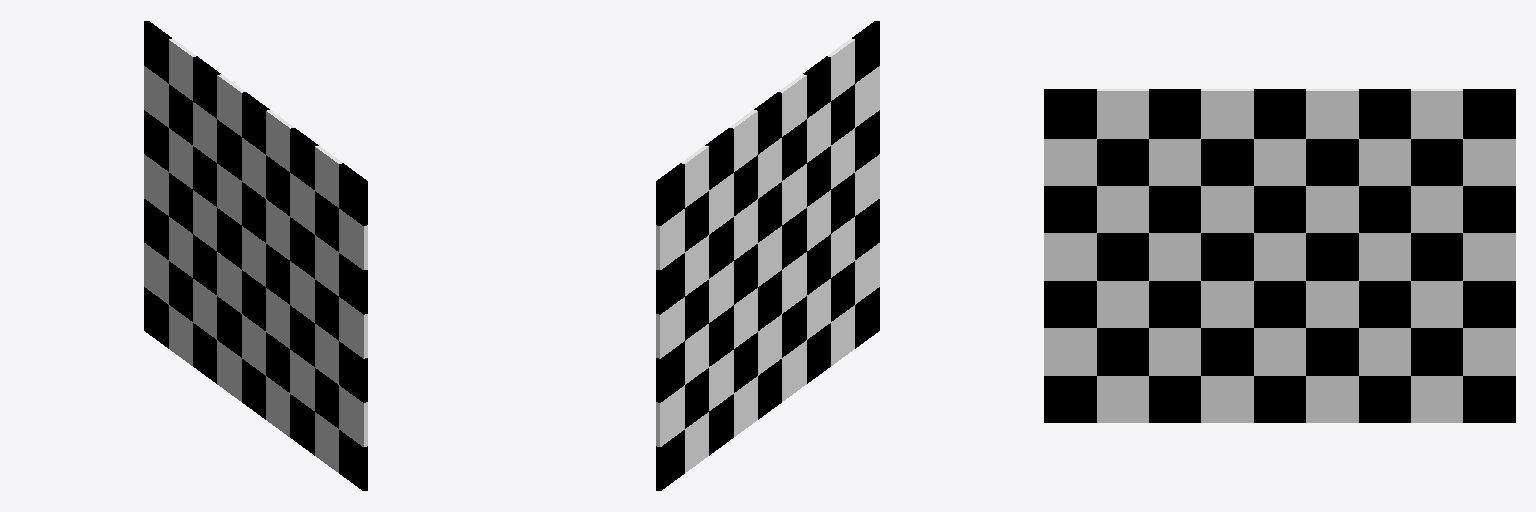
--- What the picture shows (computed from the rendered views, not written in the file) ---
3 views of the same robot in one strip: view 1: azimuth 30°, elevation 25°; view 2: azimuth 150°, elevation 25°; view 3: azimuth 270°, elevation 25° (orthographic).
Robot: calibration_grid_robot — 65 links, 64 joints (64 fixed); root link world; default pose: every joint at zero.
Links seen in each view (by area): view 1: square7x1_link, square2x1_link, square1x1_link, square3x1_link, square5x1_link, square6x1_link, square4x1_link, square7x9_link, square7x3_link, square7x6_link, square7x5_link, square7x7_link (+28 smaller); view 2: square7x9_link, square2x9_link, square1x9_link, square3x9_link, square5x9_link, square6x9_link, square4x9_link, square7x1_link, square7x7_link, square7x4_link, square7x5_link, square7x3_link (+28 smaller); view 3: square7x1_link, square7x4_link, square7x6_link, square7x9_link, square7x2_link, square7x3_link, square7x5_link, square7x7_link, square7x8_link, square2x1_link, square2x4_link, square2x6_link (+28 smaller).
Link boxes in pixels (x1,y1,x2,y2): square7x1_link: [339, 163, 367, 225]; square2x1_link: [339, 385, 367, 446]; square1x1_link: [339, 430, 367, 490]; square3x1_link: [339, 341, 367, 402]; square5x1_link: [339, 253, 367, 314]; square6x1_link: [339, 209, 367, 269]; square4x1_link: [339, 297, 367, 358]; square7x9_link: [144, 21, 171, 83]; square7x3_link: [290, 128, 318, 189]; square7x6_link: [217, 74, 244, 136]; square7x5_link: [242, 92, 269, 154]; square7x7_link: [193, 56, 220, 118]; square7x9_link: [656, 163, 684, 225]; square2x9_link: [656, 385, 684, 446]; square1x9_link: [656, 430, 684, 490]; square3x9_link: [656, 341, 684, 402]; square5x9_link: [656, 253, 684, 314]; square6x9_link: [656, 209, 684, 269]; square4x9_link: [656, 297, 684, 358]; square7x1_link: [852, 21, 879, 83]; square7x7_link: [705, 128, 733, 189]; square7x4_link: [779, 74, 806, 136]; square7x5_link: [754, 92, 781, 154]; square7x3_link: [803, 56, 830, 118]; square7x1_link: [1044, 89, 1096, 138]; square7x4_link: [1201, 89, 1253, 138]; square7x6_link: [1306, 89, 1358, 138]; square7x9_link: [1463, 89, 1515, 138]; square7x2_link: [1097, 89, 1148, 138]; square7x3_link: [1149, 89, 1200, 138]; square7x5_link: [1254, 89, 1305, 138]; square7x7_link: [1359, 89, 1410, 138]; square7x8_link: [1411, 89, 1462, 138]; square2x1_link: [1044, 328, 1096, 375]; square2x4_link: [1201, 328, 1253, 375]; square2x6_link: [1306, 328, 1358, 375].
Size in the robot's own frame: 0.01 by 0.9 by 0.7 metres.
Geometry: primitives only (box / cylinder / sphere), no mesh files.

URDF robot description (calibration_grid_robot):
<?xml version="1.0" ?>
<robot name="calibration_grid_robot" xmlns:xacro="http://ros.org/wiki/xacro">
    <material name="black">
        <color rgba="0 0 0 1" />
    </material>
    <material name="white">
        <color rgba="1 1 1 1" />
    </material>

    <link name="world" />

    <link name="grid8x6" />

    <joint name="grid8x6_joint" type="fixed">
        <origin xyz="0.0 0 0" rpy="1.57079 0 1.57079" />
        <parent link="world" />
        <child link="grid8x6" />
    </joint>

    <link name="square1x1_link">
        <visual>
            <origin xyz="0 0 0" rpy="0 0 0" />
            <geometry>
                <box size="0.1 0.1 0.01" />
            </geometry>
            <material name="black" />
        </visual>
        <inertial>
            <mass value="1.0"/>
            <origin xyz="0 0 0"/>
            <inertia ixx="0.6022" ixy="-0.02364" ixz="-0.1197" iyy="1.7386" iyz="-0.001544" izz="2.0296"/>
        </inertial>
    </link>

    <joint name="square1x1_joint" type="fixed">
        <origin xyz="0.0 0 0" rpy="0 0 0" />
        <parent link="grid8x6" />
        <child link="square1x1_link" />
    </joint>

    <link name="square1x2_link">
        <visual>
            <origin xyz="0 0 0" rpy="0 0 0" />
            <geometry>
                <box size="0.1 0.1 0.01" />
            </geometry>
            <material name="white" />
        </visual>
        <inertial>
            <mass value="1.0"/>
            <origin xyz="0 0 0"/>
            <inertia ixx="0.6022" ixy="-0.02364" ixz="-0.1197" iyy="1.7386" iyz="-0.001544" izz="2.0296"/>
        </inertial>
    </link>

    <joint name="square1x2_joint" type="fixed">
        <origin xyz="0.1 0 0" rpy="0 0 0" />
        <parent link="grid8x6" />
        <child link="square1x2_link" />
    </joint>

    <link name="square1x3_link">
        <visual>
            <origin xyz="0 0 0" rpy="0 0 0" />
            <geometry>
                <box size="0.1 0.1 0.01" />
            </geometry>
            <material name="black" />
        </visual>
        <inertial>
            <mass value="1.0"/>
            <origin xyz="0 0 0"/>
            <inertia ixx="0.6022" ixy="-0.02364" ixz="-0.1197" iyy="1.7386" iyz="-0.001544" izz="2.0296"/>
        </inertial>
    </link>

    <joint name="square1x3_joint" type="fixed">
        <origin xyz="0.2 0 0" rpy="0 0 0" />
        <parent link="grid8x6" />
        <child link="square1x3_link" />
    </joint>

    <link name="square1x4_link">
        <visual>
            <origin xyz="0 0 0" rpy="0 0 0" />
            <geometry>
                <box size="0.1 0.1 0.01" />
            </geometry>
            <material name="white" />
        </visual>
        <inertial>
            <mass value="1.0"/>
            <origin xyz="0 0 0"/>
            <inertia ixx="0.6022" ixy="-0.02364" ixz="-0.1197" iyy="1.7386" iyz="-0.001544" izz="2.0296"/>
        </inertial>
    </link>

    <joint name="square1x4_joint" type="fixed">
        <origin xyz="0.3 0 0" rpy="0 0 0" />
        <parent link="grid8x6" />
        <child link="square1x4_link" />
    </joint>

    <link name="square1x5_link">
        <visual>
            <origin xyz="0 0 0" rpy="0 0 0" />
            <geometry>
                <box size="0.1 0.1 0.01" />
            </geometry>
            <material name="black" />
        </visual>
        <inertial>
            <mass value="1.0"/>
            <origin xyz="0 0 0"/>
            <inertia ixx="0.6022" ixy="-0.02364" ixz="-0.1197" iyy="1.7386" iyz="-0.001544" izz="2.0296"/>
        </inertial>
    </link>

    <joint name="square1x5_joint" type="fixed">
        <origin xyz="0.4 0 0" rpy="0 0 0" />
        <parent link="grid8x6" />
        <child link="square1x5_link" />
    </joint>

    <link name="square1x6_link">
        <visual>
            <origin xyz="0 0 0" rpy="0 0 0" />
            <geometry>
                <box size="0.1 0.1 0.01" />
            </geometry>
            <material name="white" />
        </visual>
        <inertial>
            <mass value="1.0"/>
            <origin xyz="0 0 0"/>
            <inertia ixx="0.6022" ixy="-0.02364" ixz="-0.1197" iyy="1.7386" iyz="-0.001544" izz="2.0296"/>
        </inertial>
    </link>

    <joint name="square1x6_joint" type="fixed">
        <origin xyz="0.5 0 0" rpy="0 0 0" />
        <parent link="grid8x6" />
        <child link="square1x6_link" />
    </joint>

    <link name="square1x7_link">
        <visual>
            <origin xyz="0 0 0" rpy="0 0 0" />
            <geometry>
                <box size="0.1 0.1 0.01" />
            </geometry>
            <material name="black" />
        </visual>
        <inertial>
            <mass value="1.0"/>
            <origin xyz="0 0 0"/>
            <inertia ixx="0.6022" ixy="-0.02364" ixz="-0.1197" iyy="1.7386" iyz="-0.001544" izz="2.0296"/>
        </inertial>
    </link>

    <joint name="square1x7_joint" type="fixed">
        <origin xyz="0.6 0 0" rpy="0 0 0" />
        <parent link="grid8x6" />
        <child link="square1x7_link" />
    </joint>

    <link name="square1x8_link">
        <visual>
            <origin xyz="0 0 0" rpy="0 0 0" />
            <geometry>
                <box size="0.1 0.1 0.01" />
            </geometry>
            <material name="white" />
        </visual>
        <inertial>
            <mass value="1.0"/>
            <origin xyz="0 0 0"/>
            <inertia ixx="0.6022" ixy="-0.02364" ixz="-0.1197" iyy="1.7386" iyz="-0.001544" izz="2.0296"/>
        </inertial>
    </link>

    <joint name="square1x8_joint" type="fixed">
        <origin xyz="0.7 0 0" rpy="0 0 0" />
        <parent link="grid8x6" />
        <child link="square1x8_link" />
    </joint>

    <link name="square1x9_link">
        <visual>
            <origin xyz="0 0 0" rpy="0 0 0" />
            <geometry>
                <box size="0.1 0.1 0.01" />
            </geometry>
            <material name="black" />
        </visual>
        <inertial>
            <mass value="1.0"/>
            <origin xyz="0 0 0"/>
            <inertia ixx="0.6022" ixy="-0.02364" ixz="-0.1197" iyy="1.7386" iyz="-0.001544" izz="2.0296"/>
        </inertial>
    </link>

    <joint name="square1x9_joint" type="fixed">
        <origin xyz="0.8 0 0" rpy="0 0 0" />
        <parent link="grid8x6" />
        <child link="square1x9_link" />
    </joint>


    <link name="square2x1_link">
        <visual>
            <origin xyz="0 0 0" rpy="0 0 0" />
            <geometry>
                <box size="0.1 0.1 0.01" />
            </geometry>
            <material name="white" />
        </visual>
        <inertial>
            <mass value="1.0"/>
            <origin xyz="0 0 0"/>
            <inertia ixx="0.6022" ixy="-0.02364" ixz="-0.1197" iyy="1.7386" iyz="-0.001544" izz="2.0296"/>
        </inertial>
    </link>

    <joint name="square2x1_joint" type="fixed">
        <origin xyz="0.0 0.1 0" rpy="0 0 0" />
        <parent link="grid8x6" />
        <child link="square2x1_link" />
    </joint>

    <link name="square2x2_link">
        <visual>
            <origin xyz="0 0 0" rpy="0 0 0" />
            <geometry>
                <box size="0.1 0.1 0.01" />
            </geometry>
            <material name="black" />
        </visual>
        <inertial>
            <mass value="1.0"/>
            <origin xyz="0 0 0"/>
            <inertia ixx="0.6022" ixy="-0.02364" ixz="-0.1197" iyy="1.7386" iyz="-0.001544" izz="2.0296"/>
        </inertial>
    </link>

    <joint name="square2x2_joint" type="fixed">
        <origin xyz="0.1 0.1 0" rpy="0 0 0" />
        <parent link="grid8x6" />
        <child link="square2x2_link" />
    </joint>

    <link name="square2x3_link">
        <visual>
            <origin xyz="0 0 0" rpy="0 0 0" />
            <geometry>
                <box size="0.1 0.1 0.01" />
            </geometry>
            <material name="white" />
        </visual>
        <inertial>
            <mass value="1.0"/>
            <origin xyz="0 0 0"/>
            <inertia ixx="0.6022" ixy="-0.02364" ixz="-0.1197" iyy="1.7386" iyz="-0.001544" izz="2.0296"/>
        </inertial>
    </link>

    <joint name="square2x3_joint" type="fixed">
        <origin xyz="0.2 0.1 0" rpy="0 0 0" />
        <parent link="grid8x6" />
        <child link="square2x3_link" />
    </joint>

    <link name="square2x4_link">
        <visual>
            <origin xyz="0 0 0" rpy="0 0 0" />
            <geometry>
                <box size="0.1 0.1 0.01" />
            </geometry>
            <material name="black" />
        </visual>
        <inertial>
            <mass value="1.0"/>
            <origin xyz="0 0 0"/>
            <inertia ixx="0.6022" ixy="-0.02364" ixz="-0.1197" iyy="1.7386" iyz="-0.001544" izz="2.0296"/>
        </inertial>
    </link>

    <joint name="square2x4_joint" type="fixed">
        <origin xyz="0.3 0.1 0" rpy="0 0 0" />
        <parent link="grid8x6" />
        <child link="square2x4_link" />
    </joint>

    <link name="square2x5_link">
        <visual>
            <origin xyz="0 0 0" rpy="0 0 0" />
            <geometry>
                <box size="0.1 0.1 0.01" />
            </geometry>
            <material name="white" />
        </visual>
        <inertial>
            <mass value="1.0"/>
            <origin xyz="0 0 0"/>
            <inertia ixx="0.6022" ixy="-0.02364" ixz="-0.1197" iyy="1.7386" iyz="-0.001544" izz="2.0296"/>
        </inertial>
    </link>

    <joint name="square2x5_joint" type="fixed">
        <origin xyz="0.4 0.1 0" rpy="0 0 0" />
        <parent link="grid8x6" />
        <child link="square2x5_link" />
    </joint>

    <link name="square2x6_link">
        <visual>
            <origin xyz="0 0 0" rpy="0 0 0" />
            <geometry>
                <box size="0.1 0.1 0.01" />
            </geometry>
            <material name="black" />
        </visual>
        <inertial>
            <mass value="1.0"/>
            <origin xyz="0 0 0"/>
            <inertia ixx="0.6022" ixy="-0.02364" ixz="-0.1197" iyy="1.7386" iyz="-0.001544" izz="2.0296"/>
        </inertial>
    </link>

    <joint name="square2x6_joint" type="fixed">
        <origin xyz="0.5 0.1 0" rpy="0 0 0" />
        <parent link="grid8x6" />
        <child link="square2x6_link" />
    </joint>

    <link name="square2x7_link">
        <visual>
            <origin xyz="0 0 0" rpy="0 0 0" />
            <geometry>
                <box size="0.1 0.1 0.01" />
            </geometry>
            <material name="white" />
        </visual>
        <inertial>
            <mass value="1.0"/>
            <origin xyz="0 0 0"/>
            <inertia ixx="0.6022" ixy="-0.02364" ixz="-0.1197" iyy="1.7386" iyz="-0.001544" izz="2.0296"/>
        </inertial>
    </link>

    <joint name="square2x7_joint" type="fixed">
        <origin xyz="0.6 0.1 0" rpy="0 0 0" />
        <parent link="grid8x6" />
        <child link="square2x7_link" />
    </joint>

    <link name="square2x8_link">
        <visual>
            <origin xyz="0 0 0" rpy="0 0 0" />
            <geometry>
                <box size="0.1 0.1 0.01" />
            </geometry>
            <material name="black" />
        </visual>
        <inertial>
            <mass value="1.0"/>
            <origin xyz="0 0 0"/>
            <inertia ixx="0.6022" ixy="-0.02364" ixz="-0.1197" iyy="1.7386" iyz="-0.001544" izz="2.0296"/>
        </inertial>
    </link>

    <joint name="square2x8_joint" type="fixed">
        <origin xyz="0.7 0.1 0" rpy="0 0 0" />
        <parent link="grid8x6" />
        <child link="square2x8_link" />
    </joint>

    <link name="square2x9_link">
        <visual>
            <origin xyz="0 0 0" rpy="0 0 0" />
            <geometry>
                <box size="0.1 0.1 0.01" />
            </geometry>
            <material name="white" />
        </visual>
        <inertial>
            <mass value="1.0"/>
            <origin xyz="0 0 0"/>
            <inertia ixx="0.6022" ixy="-0.02364" ixz="-0.1197" iyy="1.7386" iyz="-0.001544" izz="2.0296"/>
        </inertial>
    </link>

    <joint name="square2x9_joint" type="fixed">
        <origin xyz="0.8 0.1 0" rpy="0 0 0" />
        <parent link="grid8x6" />
        <child link="square2x9_link" />
    </joint>


    <link name="square3x1_link">
        <visual>
            <origin xyz="0 0 0" rpy="0 0 0" />
            <geometry>
                <box size="0.1 0.1 0.01" />
            </geometry>
            <material name="black" />
        </visual>
        <inertial>
            <mass value="1.0"/>
            <origin xyz="0 0 0"/>
            <inertia ixx="0.6022" ixy="-0.02364" ixz="-0.1197" iyy="1.7386" iyz="-0.001544" izz="2.0296"/>
        </inertial>
    </link>

    <joint name="square3x1_joint" type="fixed">
        <origin xyz="0.0 0.2 0" rpy="0 0 0" />
        <parent link="grid8x6" />
        <child link="square3x1_link" />
    </joint>

    <link name="square3x2_link">
        <visual>
            <origin xyz="0 0 0" rpy="0 0 0" />
            <geometry>
                <box size="0.1 0.1 0.01" />
            </geometry>
            <material name="white" />
        </visual>
        <inertial>
            <mass value="1.0"/>
            <origin xyz="0 0 0"/>
            <inertia ixx="0.6022" ixy="-0.02364" ixz="-0.1197" iyy="1.7386" iyz="-0.001544" izz="2.0296"/>
        </inertial>
    </link>

    <joint name="square3x2_joint" type="fixed">
        <origin xyz="0.1 0.2 0" rpy="0 0 0" />
        <parent link="grid8x6" />
        <child link="square3x2_link" />
    </joint>

    <link name="square3x3_link">
        <visual>
            <origin xyz="0 0 0" rpy="0 0 0" />
            <geometry>
                <box size="0.1 0.1 0.01" />
            </geometry>
            <material name="black" />
        </visual>
        <inertial>
            <mass value="1.0"/>
            <origin xyz="0 0 0"/>
            <inertia ixx="0.6022" ixy="-0.02364" ixz="-0.1197" iyy="1.7386" iyz="-0.001544" izz="2.0296"/>
        </inertial>
    </link>

    <joint name="square3x3_joint" type="fixed">
        <origin xyz="0.2 0.2 0" rpy="0 0 0" />
        <parent link="grid8x6" />
        <child link="square3x3_link" />
    </joint>

    <link name="square3x4_link">
        <visual>
            <origin xyz="0 0 0" rpy="0 0 0" />
            <geometry>
                <box size="0.1 0.1 0.01" />
            </geometry>
            <material name="white" />
        </visual>
        <inertial>
            <mass value="1.0"/>
            <origin xyz="0 0 0"/>
            <inertia ixx="0.6022" ixy="-0.02364" ixz="-0.1197" iyy="1.7386" iyz="-0.001544" izz="2.0296"/>
        </inertial>
    </link>

    <joint name="square3x4_joint" type="fixed">
        <origin xyz="0.3 0.2 0" rpy="0 0 0" />
        <parent link="grid8x6" />
        <child link="square3x4_link" />
    </joint>

    <link name="square3x5_link">
        <visual>
            <origin xyz="0 0 0" rpy="0 0 0" />
            <geometry>
                <box size="0.1 0.1 0.01" />
            </geometry>
            <material name="black" />
        </visual>
        <inertial>
            <mass value="1.0"/>
            <origin xyz="0 0 0"/>
            <inertia ixx="0.6022" ixy="-0.02364" ixz="-0.1197" iyy="1.7386" iyz="-0.001544" izz="2.0296"/>
        </inertial>
    </link>

    <joint name="square3x5_joint" type="fixed">
        <origin xyz="0.4 0.2 0" rpy="0 0 0" />
        <parent link="grid8x6" />
        <child link="square3x5_link" />
    </joint>

    <link name="square3x6_link">
        <visual>
            <origin xyz="0 0 0" rpy="0 0 0" />
            <geometry>
                <box size="0.1 0.1 0.01" />
            </geometry>
            <material name="white" />
        </visual>
        <inertial>
            <mass value="1.0"/>
            <origin xyz="0 0 0"/>
            <inertia ixx="0.6022" ixy="-0.02364" ixz="-0.1197" iyy="1.7386" iyz="-0.001544" izz="2.0296"/>
        </inertial>
    </link>

    <joint name="square3x6_joint" type="fixed">
        <origin xyz="0.5 0.2 0" rpy="0 0 0" />
        <parent link="grid8x6" />
        <child link="square3x6_link" />
    </joint>

    <link name="square3x7_link">
        <visual>
            <origin xyz="0 0 0" rpy="0 0 0" />
            <geometry>
                <box size="0.1 0.1 0.01" />
            </geometry>
            <material name="black" />
        </visual>
        <inertial>
            <mass value="1.0"/>
            <origin xyz="0 0 0"/>
            <inertia ixx="0.6022" ixy="-0.02364" ixz="-0.1197" iyy="1.7386" iyz="-0.001544" izz="2.0296"/>
        </inertial>
    </link>

    <joint name="square3x7_joint" type="fixed">
        <origin xyz="0.6 0.2 0" rpy="0 0 0" />
        <parent link="grid8x6" />
        <child link="square3x7_link" />
    </joint>

    <link name="square3x8_link">
        <visual>
            <origin xyz="0 0 0" rpy="0 0 0" />
            <geometry>
                <box size="0.1 0.1 0.01" />
            </geometry>
            <material name="white" />
        </visual>
        <inertial>
            <mass value="1.0"/>
            <origin xyz="0 0 0"/>
            <inertia ixx="0.6022" ixy="-0.02364" ixz="-0.1197" iyy="1.7386" iyz="-0.001544" izz="2.0296"/>
        </inertial>
    </link>

    <joint name="square3x8_joint" type="fixed">
        <origin xyz="0.7 0.2 0" rpy="0 0 0" />
        <parent link="grid8x6" />
        <child link="square3x8_link" />
    </joint>

    <link name="square3x9_link">
        <visual>
            <origin xyz="0 0 0" rpy="0 0 0" />
            <geometry>
                <box size="0.1 0.1 0.01" />
            </geometry>
            <material name="black" />
        </visual>
        <inertial>
            <mass value="1.0"/>
            <origin xyz="0 0 0"/>
            <inertia ixx="0.6022" ixy="-0.02364" ixz="-0.1197" iyy="1.7386" iyz="-0.001544" izz="2.0296"/>
        </inertial>
    </link>

    <joint name="square3x9_joint" type="fixed">
        <origin xyz="0.8 0.2 0" rpy="0 0 0" />
        <parent link="grid8x6" />
        <child link="square3x9_link" />
    </joint>


    <link name="square4x1_link">
        <visual>
            <origin xyz="0 0 0" rpy="0 0 0" />
            <geometry>
                <box size="0.1 0.1 0.01" />
            </geometry>
            <material name="white" />
        </visual>
        <inertial>
            <mass value="1.0"/>
            <origin xyz="0 0 0"/>
            <inertia ixx="0.6022" ixy="-0.02364" ixz="-0.1197" iyy="1.7386" iyz="-0.001544" izz="2.0296"/>
        </inertial>
    </link>

    <joint name="square4x1_joint" type="fixed">
        <origin xyz="0.0 0.3 0" rpy="0 0 0" />
        <parent link="grid8x6" />
        <child link="square4x1_link" />
    </joint>

    <link name="square4x2_link">
        <visual>
            <origin xyz="0 0 0" rpy="0 0 0" />
            <geometry>
                <box size="0.1 0.1 0.01" />
            </geometry>
            <material name="black" />
        </visual>
        <inertial>
            <mass value="1.0"/>
            <origin xyz="0 0 0"/>
            <inertia ixx="0.6022" ixy="-0.02364" ixz="-0.1197" iyy="1.7386" iyz="-0.001544" izz="2.0296"/>
        </inertial>
    </link>

    <joint name="square4x2_joint" type="fixed">
        <origin xyz="0.1 0.3 0" rpy="0 0 0" />
        <parent link="grid8x6" />
        <child link="square4x2_link" />
    </joint>

    <link name="square4x3_link">
        <visual>
            <origin xyz="0 0 0" rpy="0 0 0" />
            <geometry>
                <box size="0.1 0.1 0.01" />
            </geometry>
            <material name="white" />
        </visual>
        <inertial>
            <mass value="1.0"/>
            <origin xyz="0 0 0"/>
            <inertia ixx="0.6022" ixy="-0.02364" ixz="-0.1197" iyy="1.7386" iyz="-0.001544" izz="2.0296"/>
        </inertial>
    </link>

    <joint name="square4x3_joint" type="fixed">
        <origin xyz="0.2 0.3 0" rpy="0 0 0" />
        <parent link="grid8x6" />
        <child link="square4x3_link" />
    </joint>

    <link name="square4x4_link">
        <visual>
            <origin xyz="0 0 0" rpy="0 0 0" />
            <geometry>
                <box size="0.1 0.1 0.01" />
            </geometry>
            <material name="black" />
        </visual>
        <inertial>
            <mass value="1.0"/>
            <origin xyz="0 0 0"/>
            <inertia ixx="0.6022" ixy="-0.02364" ixz="-0.1197" iyy="1.7386" iyz="-0.001544" izz="2.0296"/>
        </inertial>
    </link>

    <joint name="square4x4_joint" type="fixed">
        <origin xyz="0.3 0.3 0" rpy="0 0 0" />
        <parent link="grid8x6" />
        <child link="square4x4_link" />
    </joint>

    <link name="square4x5_link">
        <visual>
            <origin xyz="0 0 0" rpy="0 0 0" />
            <geometry>
                <box size="0.1 0.1 0.01" />
            </geometry>
            <material name="white" />
        </visual>
        <inertial>
            <mass value="1.0"/>
            <origin xyz="0 0 0"/>
            <inertia ixx="0.6022" ixy="-0.02364" ixz="-0.1197" iyy="1.7386" iyz="-0.001544" izz="2.0296"/>
        </inertial>
    </link>

    <joint name="square4x5_joint" type="fixed">
        <origin xyz="0.4 0.3 0" rpy="0 0 0" />
        <parent link="grid8x6" />
        <child link="square4x5_link" />
    </joint>

    <link name="square4x6_link">
        <visual>
            <origin xyz="0 0 0" rpy="0 0 0" />
            <geometry>
                <box size="0.1 0.1 0.01" />
            </geometry>
            <material name="black" />
        </visual>
        <inertial>
            <mass value="1.0"/>
            <origin xyz="0 0 0"/>
            <inertia ixx="0.6022" ixy="-0.02364" ixz="-0.1197" iyy="1.7386" iyz="-0.001544" izz="2.0296"/>
        </inertial>
    </link>

    <joint name="square4x6_joint" type="fixed">
        <origin xyz="0.5 0.3 0" rpy="0 0 0" />
        <parent link="grid8x6" />
        <child link="square4x6_link" />
    </joint>

    <link name="square4x7_link">
        <visual>
            <origin xyz="0 0 0" rpy="0 0 0" />
            <geometry>
                <box size="0.1 0.1 0.01" />
            </geometry>
            <material name="white" />
        </visual>
        <inertial>
            <mass value="1.0"/>
            <origin xyz="0 0 0"/>
            <inertia ixx="0.6022" ixy="-0.02364" ixz="-0.1197" iyy="1.7386" iyz="-0.001544" izz="2.0296"/>
        </inertial>
    </link>

    <joint name="square4x7_joint" type="fixed">
        <origin xyz="0.6 0.3 0" rpy="0 0 0" />
        <parent link="grid8x6" />
        <child link="square4x7_link" />
    </joint>

    <link name="square4x8_link">
        <visual>
            <origin xyz="0 0 0" rpy="0 0 0" />
            <geometry>
                <box size="0.1 0.1 0.01" />
            </geometry>
            <material name="black" />
        </visual>
        <inertial>
            <mass value="1.0"/>
            <origin xyz="0 0 0"/>
            <inertia ixx="0.6022" ixy="-0.02364" ixz="-0.1197" iyy="1.7386" iyz="-0.001544" izz="2.0296"/>
        </inertial>
    </link>

    <joint name="square4x8_joint" type="fixed">
        <origin xyz="0.7 0.3 0" rpy="0 0 0" />
        <parent link="grid8x6" />
        <child link="square4x8_link" />
    </joint>

    <link name="square4x9_link">
        <visual>
            <origin xyz="0 0 0" rpy="0 0 0" />
            <geometry>
                <box size="0.1 0.1 0.01" />
            </geometry>
            <material name="white" />
        </visual>
        <inertial>
            <mass value="1.0"/>
            <origin xyz="0 0 0"/>
            <inertia ixx="0.6022" ixy="-0.02364" ixz="-0.1197" iyy="1.7386" iyz="-0.001544" izz="2.0296"/>
        </inertial>
    </link>

    <joint name="square4x9_joint" type="fixed">
        <origin xyz="0.8 0.3 0" rpy="0 0 0" />
        <parent link="grid8x6" />
        <child link="square4x9_link" />
    </joint>


    <link name="square5x1_link">
        <visual>
            <origin xyz="0 0 0" rpy="0 0 0" />
            <geometry>
                <box size="0.1 0.1 0.01" />
            </geometry>
            <material name="black" />
        </visual>
        <inertial>
            <mass value="1.0"/>
            <origin xyz="0 0 0"/>
            <inertia ixx="0.6022" ixy="-0.02364" ixz="-0.1197" iyy="1.7386" iyz="-0.001544" izz="2.0296"/>
        </inertial>
    </link>

    <joint name="square5x1_joint" type="fixed">
        <origin xyz="0.0 0.4 0" rpy="0 0 0" />
        <parent link="grid8x6" />
        <child link="square5x1_link" />
    </joint>

    <link name="square5x2_link">
        <visual>
            <origin xyz="0 0 0" rpy="0 0 0" />
            <geometry>
                <box size="0.1 0.1 0.01" />
            </geometry>
            <material name="white" />
        </visual>
        <inertial>
            <mass value="1.0"/>
            <origin xyz="0 0 0"/>
            <inertia ixx="0.6022" ixy="-0.02364" ixz="-0.1197" iyy="1.7386" iyz="-0.001544" izz="2.0296"/>
        </inertial>
    </link>

    <joint name="square5x2_joint" type="fixed">
        <origin xyz="0.1 0.4 0" rpy="0 0 0" />
        <parent link="grid8x6" />
        <child link="square5x2_link" />
    </joint>

    <link name="square5x3_link">
        <visual>
            <origin xyz="0 0 0" rpy="0 0 0" />
            <geometry>
                <box size="0.1 0.1 0.01" />
            </geometry>
            <material name="black" />
        </visual>
        <inertial>
            <mass value="1.0"/>
            <origin xyz="0 0 0"/>
            <inertia ixx="0.6022" ixy="-0.02364" ixz="-0.1197" iyy="1.7386" iyz="-0.001544" izz="2.0296"/>
        </inertial>
    </link>

    <joint name="square5x3_joint" type="fixed">
        <origin xyz="0.2 0.4 0" rpy="0 0 0" />
        <parent link="grid8x6" />
        <child link="square5x3_link" />
    </joint>

    <link name="square5x4_link">
        <visual>
            <origin xyz="0 0 0" rpy="0 0 0" />
            <geometry>
                <box size="0.1 0.1 0.01" />
            </geometry>
            <material name="white" />
        </visual>
        <inertial>
            <mass value="1.0"/>
            <origin xyz="0 0 0"/>
            <inertia ixx="0.6022" ixy="-0.02364" ixz="-0.1197" iyy="1.7386" iyz="-0.001544" izz="2.0296"/>
        </inertial>
    </link>

    <joint name="square5x4_joint" type="fixed">
        <origin xyz="0.3 0.4 0" rpy="0 0 0" />
        <parent link="grid8x6" />
        <child link="square5x4_link" />
    </joint>

    <link name="square5x5_link">
        <visual>
            <origin xyz="0 0 0" rpy="0 0 0" />
            <geometry>
                <box size="0.1 0.1 0.01" />
            </geometry>
            <material name="black" />
        </visual>
        <inertial>
            <mass value="1.0"/>
            <origin xyz="0 0 0"/>
            <inertia ixx="0.6022" ixy="-0.02364" ixz="-0.1197" iyy="1.7386" iyz="-0.001544" izz="2.0296"/>
        </inertial>
    </link>

    <joint name="square5x5_joint" type="fixed">
        <origin xyz="0.4 0.4 0" rpy="0 0 0" />
        <parent link="grid8x6" />
        <child link="square5x5_link" />
    </joint>

    <link name="square5x6_link">
        <visual>
            <origin xyz="0 0 0" rpy="0 0 0" />
            <geometry>
                <box size="0.1 0.1 0.01" />
            </geometry>
            <material name="white" />
        </visual>
        <inertial>
            <mass value="1.0"/>
            <origin xyz="0 0 0"/>
            <inertia ixx="0.6022" ixy="-0.02364" ixz="-0.1197" iyy="1.7386" iyz="-0.001544" izz="2.0296"/>
        </inertial>
    </link>

    <joint name="square5x6_joint" type="fixed">
        <origin xyz="0.5 0.4 0" rpy="0 0 0" />
        <parent link="grid8x6" />
        <child link="square5x6_link" />
    </joint>

    <link name="square5x7_link">
        <visual>
            <origin xyz="0 0 0" rpy="0 0 0" />
            <geometry>
                <box size="0.1 0.1 0.01" />
            </geometry>
            <material name="black" />
        </visual>
        <inertial>
            <mass value="1.0"/>
            <origin xyz="0 0 0"/>
            <inertia ixx="0.6022" ixy="-0.02364" ixz="-0.1197" iyy="1.7386" iyz="-0.001544" izz="2.0296"/>
        </inertial>
    </link>

    <joint name="square5x7_joint" type="fixed">
        <origin xyz="0.6 0.4 0" rpy="0 0 0" />
        <parent link="grid8x6" />
        <child link="square5x7_link" />
    </joint>

    <link name="square5x8_link">
        <visual>
            <origin xyz="0 0 0" rpy="0 0 0" />
            <geometry>
                <box size="0.1 0.1 0.01" />
            </geometry>
            <material name="white" />
        </visual>
        <inertial>
            <mass value="1.0"/>
            <origin xyz="0 0 0"/>
            <inertia ixx="0.6022" ixy="-0.02364" ixz="-0.1197" iyy="1.7386" iyz="-0.001544" izz="2.0296"/>
        </inertial>
    </link>

    <joint name="square5x8_joint" type="fixed">
        <origin xyz="0.7 0.4 0" rpy="0 0 0" />
        <parent link="grid8x6" />
        <child link="square5x8_link" />
    </joint>

    <link name="square5x9_link">
        <visual>
            <origin xyz="0 0 0" rpy="0 0 0" />
            <geometry>
                <box size="0.1 0.1 0.01" />
            </geometry>
            <material name="black" />
        </visual>
        <inertial>
            <mass value="1.0"/>
            <origin xyz="0 0 0"/>
            <inertia ixx="0.6022" ixy="-0.02364" ixz="-0.1197" iyy="1.7386" iyz="-0.001544" izz="2.0296"/>
        </inertial>
    </link>

    <joint name="square5x9_joint" type="fixed">
        <origin xyz="0.8 0.4 0" rpy="0 0 0" />
        <parent link="grid8x6" />
        <child link="square5x9_link" />
    </joint>


    <link name="square6x1_link">
        <visual>
            <origin xyz="0 0 0" rpy="0 0 0" />
            <geometry>
                <box size="0.1 0.1 0.01" />
            </geometry>
            <material name="white" />
        </visual>
        <inertial>
            <mass value="1.0"/>
            <origin xyz="0 0 0"/>
            <inertia ixx="0.6022" ixy="-0.02364" ixz="-0.1197" iyy="1.7386" iyz="-0.001544" izz="2.0296"/>
        </inertial>
    </link>

    <joint name="square6x1_joint" type="fixed">
        <origin xyz="0.0 0.5 0" rpy="0 0 0" />
        <parent link="grid8x6" />
        <child link="square6x1_link" />
    </joint>

    <link name="square6x2_link">
        <visual>
            <origin xyz="0 0 0" rpy="0 0 0" />
            <geometry>
                <box size="0.1 0.1 0.01" />
            </geometry>
            <material name="black" />
        </visual>
        <inertial>
            <mass value="1.0"/>
            <origin xyz="0 0 0"/>
            <inertia ixx="0.6022" ixy="-0.02364" ixz="-0.1197" iyy="1.7386" iyz="-0.001544" izz="2.0296"/>
        </inertial>
    </link>

    <joint name="square6x2_joint" type="fixed">
        <origin xyz="0.1 0.5 0" rpy="0 0 0" />
        <parent link="grid8x6" />
        <child link="square6x2_link" />
    </joint>

    <link name="square6x3_link">
        <visual>
            <origin xyz="0 0 0" rpy="0 0 0" />
            <geometry>
                <box size="0.1 0.1 0.01" />
            </geometry>
            <material name="white" />
        </visual>
        <inertial>
            <mass value="1.0"/>
            <origin xyz="0 0 0"/>
            <inertia ixx="0.6022" ixy="-0.02364" ixz="-0.1197" iyy="1.7386" iyz="-0.001544" izz="2.0296"/>
        </inertial>
    </link>

    <joint name="square6x3_joint" type="fixed">
        <origin xyz="0.2 0.5 0" rpy="0 0 0" />
        <parent link="grid8x6" />
        <child link="square6x3_link" />
    </joint>

    <link name="square6x4_link">
        <visual>
            <origin xyz="0 0 0" rpy="0 0 0" />
            <geometry>
                <box size="0.1 0.1 0.01" />
            </geometry>
            <material name="black" />
        </visual>
        <inertial>
            <mass value="1.0"/>
            <origin xyz="0 0 0"/>
            <inertia ixx="0.6022" ixy="-0.02364" ixz="-0.1197" iyy="1.7386" iyz="-0.001544" izz="2.0296"/>
        </inertial>
    </link>

    <joint name="square6x4_joint" type="fixed">
        <origin xyz="0.3 0.5 0" rpy="0 0 0" />
        <parent link="grid8x6" />
        <child link="square6x4_link" />
    </joint>

    <link name="square6x5_link">
        <visual>
            <origin xyz="0 0 0" rpy="0 0 0" />
            <geometry>
                <box size="0.1 0.1 0.01" />
            </geometry>
            <material name="white" />
        </visual>
        <inertial>
            <mass value="1.0"/>
            <origin xyz="0 0 0"/>
            <inertia ixx="0.6022" ixy="-0.02364" ixz="-0.1197" iyy="1.7386" iyz="-0.001544" izz="2.0296"/>
        </inertial>
    </link>

    <joint name="square6x5_joint" type="fixed">
        <origin xyz="0.4 0.5 0" rpy="0 0 0" />
        <parent link="grid8x6" />
        <child link="square6x5_link" />
    </joint>

    <link name="square6x6_link">
        <visual>
            <origin xyz="0 0 0" rpy="0 0 0" />
            <geometry>
                <box size="0.1 0.1 0.01" />
            </geometry>
            <material name="black" />
        </visual>
        <inertial>
            <mass value="1.0"/>
            <origin xyz="0 0 0"/>
            <inertia ixx="0.6022" ixy="-0.02364" ixz="-0.1197" iyy="1.7386" iyz="-0.001544" izz="2.0296"/>
        </inertial>
    </link>

    <joint name="square6x6_joint" type="fixed">
        <origin xyz="0.5 0.5 0" rpy="0 0 0" />
        <parent link="grid8x6" />
        <child link="square6x6_link" />
    </joint>

    <link name="square6x7_link">
        <visual>
            <origin xyz="0 0 0" rpy="0 0 0" />
            <geometry>
                <box size="0.1 0.1 0.01" />
            </geometry>
            <material name="white" />
        </visual>
        <inertial>
            <mass value="1.0"/>
            <origin xyz="0 0 0"/>
            <inertia ixx="0.6022" ixy="-0.02364" ixz="-0.1197" iyy="1.7386" iyz="-0.001544" izz="2.0296"/>
        </inertial>
    </link>

    <joint name="square6x7_joint" type="fixed">
        <origin xyz="0.6 0.5 0" rpy="0 0 0" />
        <parent link="grid8x6" />
        <child link="square6x7_link" />
    </joint>

    <link name="square6x8_link">
        <visual>
            <origin xyz="0 0 0" rpy="0 0 0" />
            <geometry>
                <box size="0.1 0.1 0.01" />
            </geometry>
            <material name="black" />
        </visual>
        <inertial>
            <mass value="1.0"/>
            <origin xyz="0 0 0"/>
            <inertia ixx="0.6022" ixy="-0.02364" ixz="-0.1197" iyy="1.7386" iyz="-0.001544" izz="2.0296"/>
        </inertial>
    </link>

    <joint name="square6x8_joint" type="fixed">
        <origin xyz="0.7 0.5 0" rpy="0 0 0" />
        <parent link="grid8x6" />
        <child link="square6x8_link" />
    </joint>

    <link name="square6x9_link">
        <visual>
            <origin xyz="0 0 0" rpy="0 0 0" />
            <geometry>
                <box size="0.1 0.1 0.01" />
            </geometry>
            <material name="white" />
        </visual>
        <inertial>
            <mass value="1.0"/>
            <origin xyz="0 0 0"/>
            <inertia ixx="0.6022" ixy="-0.02364" ixz="-0.1197" iyy="1.7386" iyz="-0.001544" izz="2.0296"/>
        </inertial>
    </link>

    <joint name="square6x9_joint" type="fixed">
        <origin xyz="0.8 0.5 0" rpy="0 0 0" />
        <parent link="grid8x6" />
        <child link="square6x9_link" />
    </joint>


    <link name="square7x1_link">
        <visual>
            <origin xyz="0 0 0" rpy="0 0 0" />
            <geometry>
                <box size="0.1 0.1 0.01" />
            </geometry>
            <material name="black" />
        </visual>
        <inertial>
            <mass value="1.0"/>
            <origin xyz="0 0 0"/>
            <inertia ixx="0.6022" ixy="-0.02364" ixz="-0.1197" iyy="1.7386" iyz="-0.001544" izz="2.0296"/>
        </inertial>
    </link>

    <joint name="square7x1_joint" type="fixed">
        <origin xyz="0.0 0.6 0" rpy="0 0 0" />
        <parent link="grid8x6" />
        <child link="square7x1_link" />
    </joint>

    <link name="square7x2_link">
        <visual>
            <origin xyz="0 0 0" rpy="0 0 0" />
            <geometry>
                <box size="0.1 0.1 0.01" />
            </geometry>
            <material name="white" />
        </visual>
        <inertial>
            <mass value="1.0"/>
            <origin xyz="0 0 0"/>
            <inertia ixx="0.6022" ixy="-0.02364" ixz="-0.1197" iyy="1.7386" iyz="-0.001544" izz="2.0296"/>
        </inertial>
    </link>

    <joint name="square7x2_joint" type="fixed">
        <origin xyz="0.1 0.6 0" rpy="0 0 0" />
        <parent link="grid8x6" />
        <child link="square7x2_link" />
    </joint>

    <link name="square7x3_link">
        <visual>
            <origin xyz="0 0 0" rpy="0 0 0" />
            <geometry>
                <box size="0.1 0.1 0.01" />
            </geometry>
            <material name="black" />
        </visual>
        <inertial>
            <mass value="1.0"/>
            <origin xyz="0 0 0"/>
            <inertia ixx="0.6022" ixy="-0.02364" ixz="-0.1197" iyy="1.7386" iyz="-0.001544" izz="2.0296"/>
        </inertial>
    </link>

    <joint name="square7x3_joint" type="fixed">
        <origin xyz="0.2 0.6 0" rpy="0 0 0" />
        <parent link="grid8x6" />
        <child link="square7x3_link" />
    </joint>

    <link name="square7x4_link">
        <visual>
            <origin xyz="0 0 0" rpy="0 0 0" />
            <geometry>
                <box size="0.1 0.1 0.01" />
            </geometry>
            <material name="white" />
        </visual>
        <inertial>
            <mass value="1.0"/>
            <origin xyz="0 0 0"/>
            <inertia ixx="0.6022" ixy="-0.02364" ixz="-0.1197" iyy="1.7386" iyz="-0.001544" izz="2.0296"/>
        </inertial>
    </link>

    <joint name="square7x4_joint" type="fixed">
        <origin xyz="0.3 0.6 0" rpy="0 0 0" />
        <parent link="grid8x6" />
        <child link="square7x4_link" />
    </joint>

    <link name="square7x5_link">
        <visual>
            <origin xyz="0 0 0" rpy="0 0 0" />
            <geometry>
                <box size="0.1 0.1 0.01" />
            </geometry>
            <material name="black" />
        </visual>
        <inertial>
            <mass value="1.0"/>
            <origin xyz="0 0 0"/>
            <inertia ixx="0.6022" ixy="-0.02364" ixz="-0.1197" iyy="1.7386" iyz="-0.001544" izz="2.0296"/>
        </inertial>
    </link>

    <joint name="square7x5_joint" type="fixed">
        <origin xyz="0.4 0.6 0" rpy="0 0 0" />
        <parent link="grid8x6" />
        <child link="square7x5_link" />
    </joint>

    <link name="square7x6_link">
        <visual>
            <origin xyz="0 0 0" rpy="0 0 0" />
            <geometry>
                <box size="0.1 0.1 0.01" />
            </geometry>
            <material name="white" />
        </visual>
        <inertial>
            <mass value="1.0"/>
            <origin xyz="0 0 0"/>
            <inertia ixx="0.6022" ixy="-0.02364" ixz="-0.1197" iyy="1.7386" iyz="-0.001544" izz="2.0296"/>
        </inertial>
    </link>

    <joint name="square7x6_joint" type="fixed">
        <origin xyz="0.5 0.6 0" rpy="0 0 0" />
        <parent link="grid8x6" />
        <child link="square7x6_link" />
    </joint>

    <link name="square7x7_link">
        <visual>
            <origin xyz="0 0 0" rpy="0 0 0" />
            <geometry>
                <box size="0.1 0.1 0.01" />
            </geometry>
            <material name="black" />
        </visual>
        <inertial>
            <mass value="1.0"/>
            <origin xyz="0 0 0"/>
            <inertia ixx="0.6022" ixy="-0.02364" ixz="-0.1197" iyy="1.7386" iyz="-0.001544" izz="2.0296"/>
        </inertial>
    </link>

    <joint name="square7x7_joint" type="fixed">
        <origin xyz="0.6 0.6 0" rpy="0 0 0" />
        <parent link="grid8x6" />
        <child link="square7x7_link" />
    </joint>

    <link name="square7x8_link">
        <visual>
            <origin xyz="0 0 0" rpy="0 0 0" />
            <geometry>
                <box size="0.1 0.1 0.01" />
            </geometry>
            <material name="white" />
        </visual>
        <inertial>
            <mass value="1.0"/>
            <origin xyz="0 0 0"/>
            <inertia ixx="0.6022" ixy="-0.02364" ixz="-0.1197" iyy="1.7386" iyz="-0.001544" izz="2.0296"/>
        </inertial>
    </link>

    <joint name="square7x8_joint" type="fixed">
        <origin xyz="0.7 0.6 0" rpy="0 0 0" />
        <parent link="grid8x6" />
        <child link="square7x8_link" />
    </joint>

    <link name="square7x9_link">
        <visual>
            <origin xyz="0 0 0" rpy="0 0 0" />
            <geometry>
                <box size="0.1 0.1 0.01" />
            </geometry>
            <material name="black" />
        </visual>
        <inertial>
            <mass value="1.0"/>
            <origin xyz="0 0 0"/>
            <inertia ixx="0.6022" ixy="-0.02364" ixz="-0.1197" iyy="1.7386" iyz="-0.001544" izz="2.0296"/>
        </inertial>
    </link>

    <joint name="square7x9_joint" type="fixed">
        <origin xyz="0.8 0.6 0" rpy="0 0 0" />
        <parent link="grid8x6" />
        <child link="square7x9_link" />
    </joint>
</robot>
